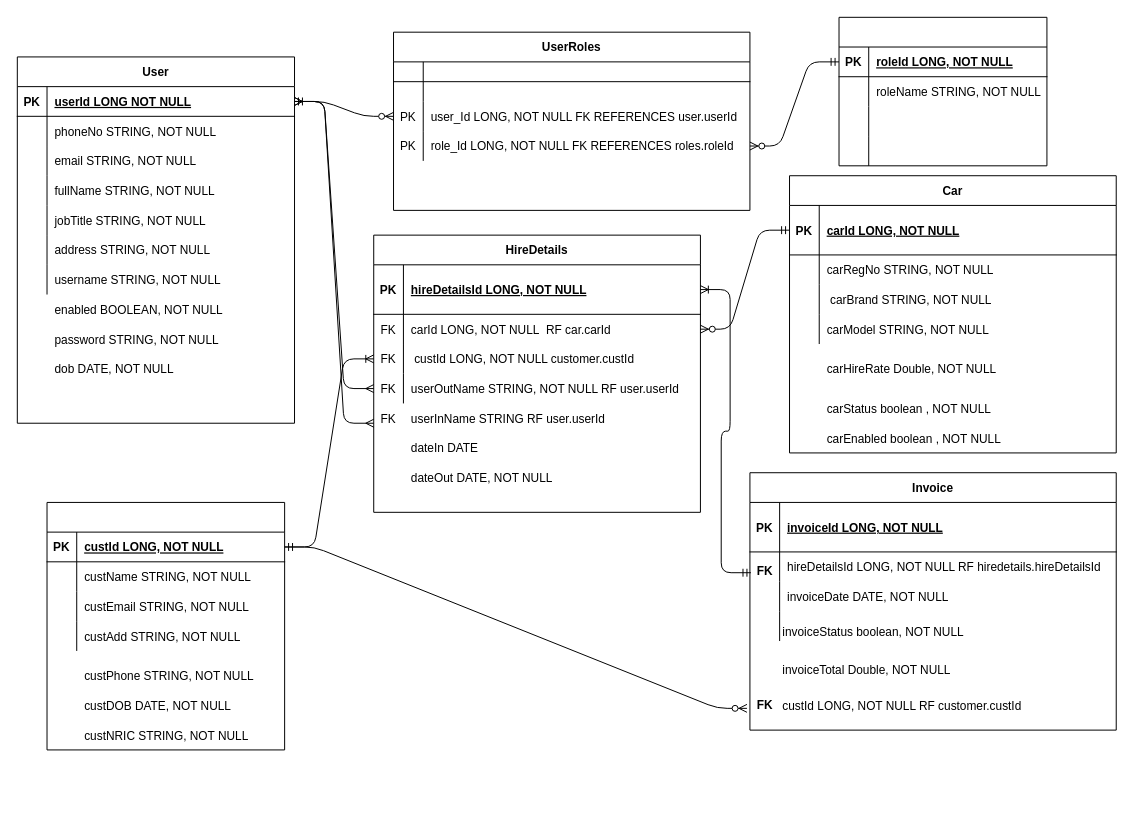
This 1134x817 diagram has some shape labels left out. Here are the shapes that lost their labels. From the top down, the box of each, then its label:
(838, 16, 1047, 166): Roles
(46, 501, 285, 750): Customer
